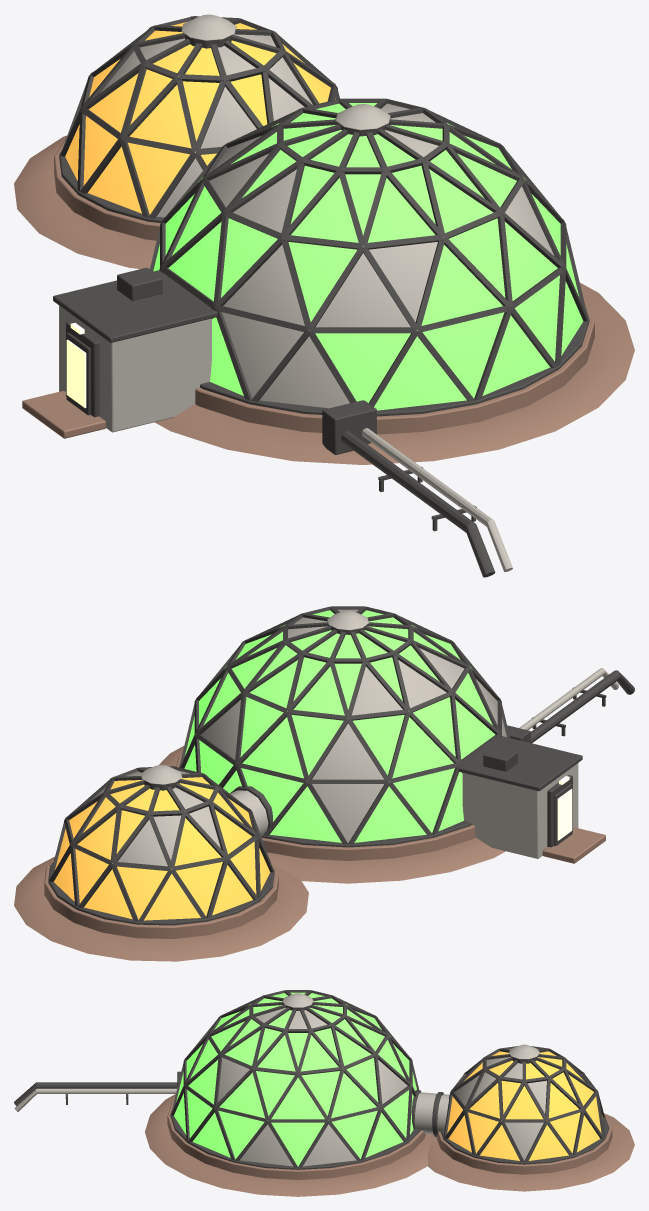
Rendered from dome_pair.glb.
3 renders of one model, top to bottom at view 1: azimuth 30°, elevation 25°; view 2: azimuth 150°, elevation 25°; view 3: azimuth 270°, elevation 25°, orthographic. The views are drawn at different scales.
Visible parts, largest first — view 1: dome_pair; view 2: dome_pair; view 3: dome_pair.
Part boxes in pixels (box(x1,y1,x2,y2)): dome_pair: box(14, 14, 634, 577); dome_pair: box(14, 606, 634, 961); dome_pair: box(14, 990, 634, 1196).
Size of the model in its own units: 14.4 by 6.37 by 24.7.
